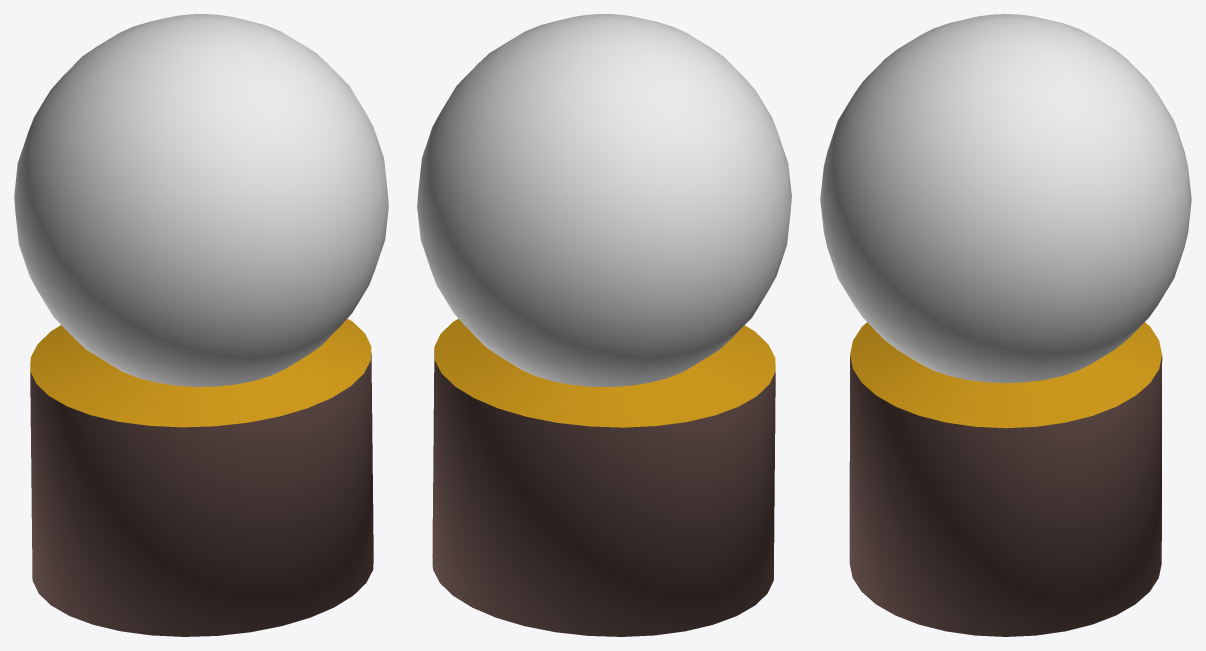
File: bulb.gltf
3 views of the same model, side by side, from view 1: azimuth 30°, elevation 25°; view 2: azimuth 150°, elevation 25°; view 3: azimuth 270°, elevation 25° (orthographic).
Visible parts, largest first — view 1: bulb, bulb-body, bulb-top; view 2: bulb, bulb-body, bulb-top; view 3: bulb, bulb-body, bulb-top.
Part boxes in pixels (box(x1,y1,x2,y2)): bulb: box(14, 14, 388, 386); bulb-body: box(30, 353, 373, 636); bulb-top: box(30, 319, 371, 427); bulb: box(417, 14, 791, 386); bulb-body: box(432, 350, 775, 636); bulb-top: box(434, 319, 775, 427); bulb: box(820, 14, 1191, 383); bulb-body: box(849, 355, 1162, 636); bulb-top: box(850, 322, 1161, 428).
Bounding box in the file's own units: 0.7497 × 1.21 × 0.7497.
